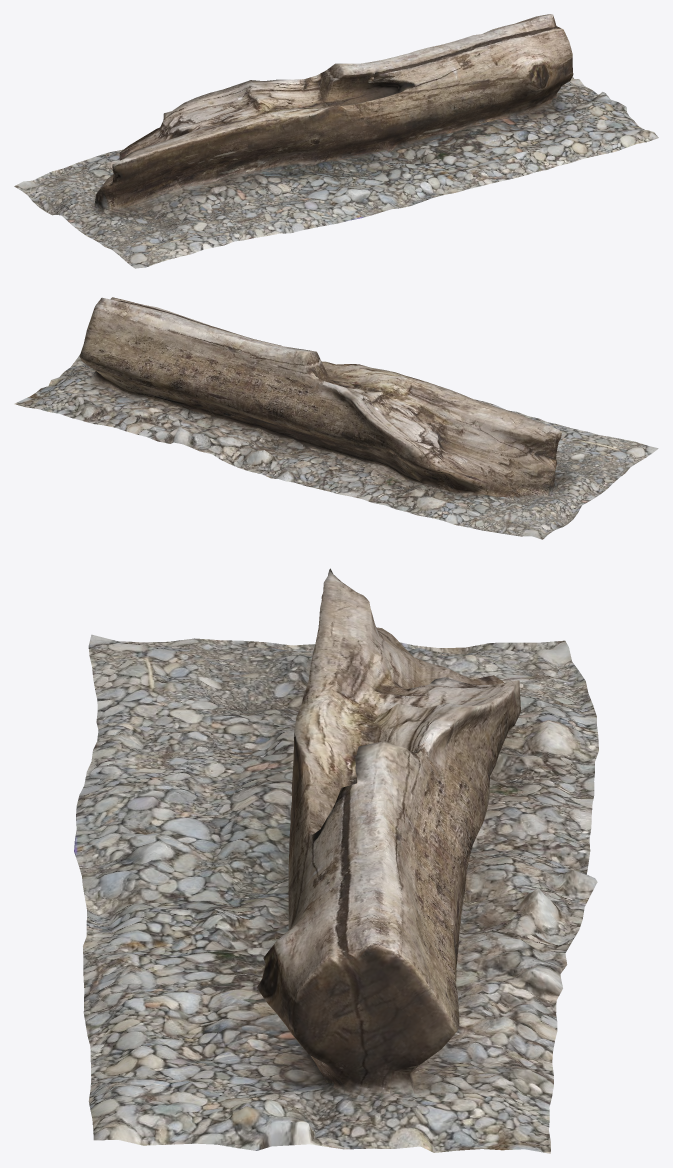
The model's file is river_log.glb.
The picture shows the model from 3 angles, top to bottom: view 1: azimuth 30°, elevation 25°; view 2: azimuth 150°, elevation 25°; view 3: azimuth 270°, elevation 25°; orthographic projection. The views are drawn at different scales.
Parts seen in each view (by area): view 1: Merged; view 2: Merged; view 3: Merged.
Boxes of the visible parts, x1=… form: Merged: x1=14, y1=14, x2=658, y2=268; Merged: x1=14, y1=297, x2=658, y2=539; Merged: x1=74, y1=568, x2=598, y2=1153.
Size of the model in its own units: 1.93 by 0.3275 by 0.8201.
Materials: 1 (1 with a texture image).
